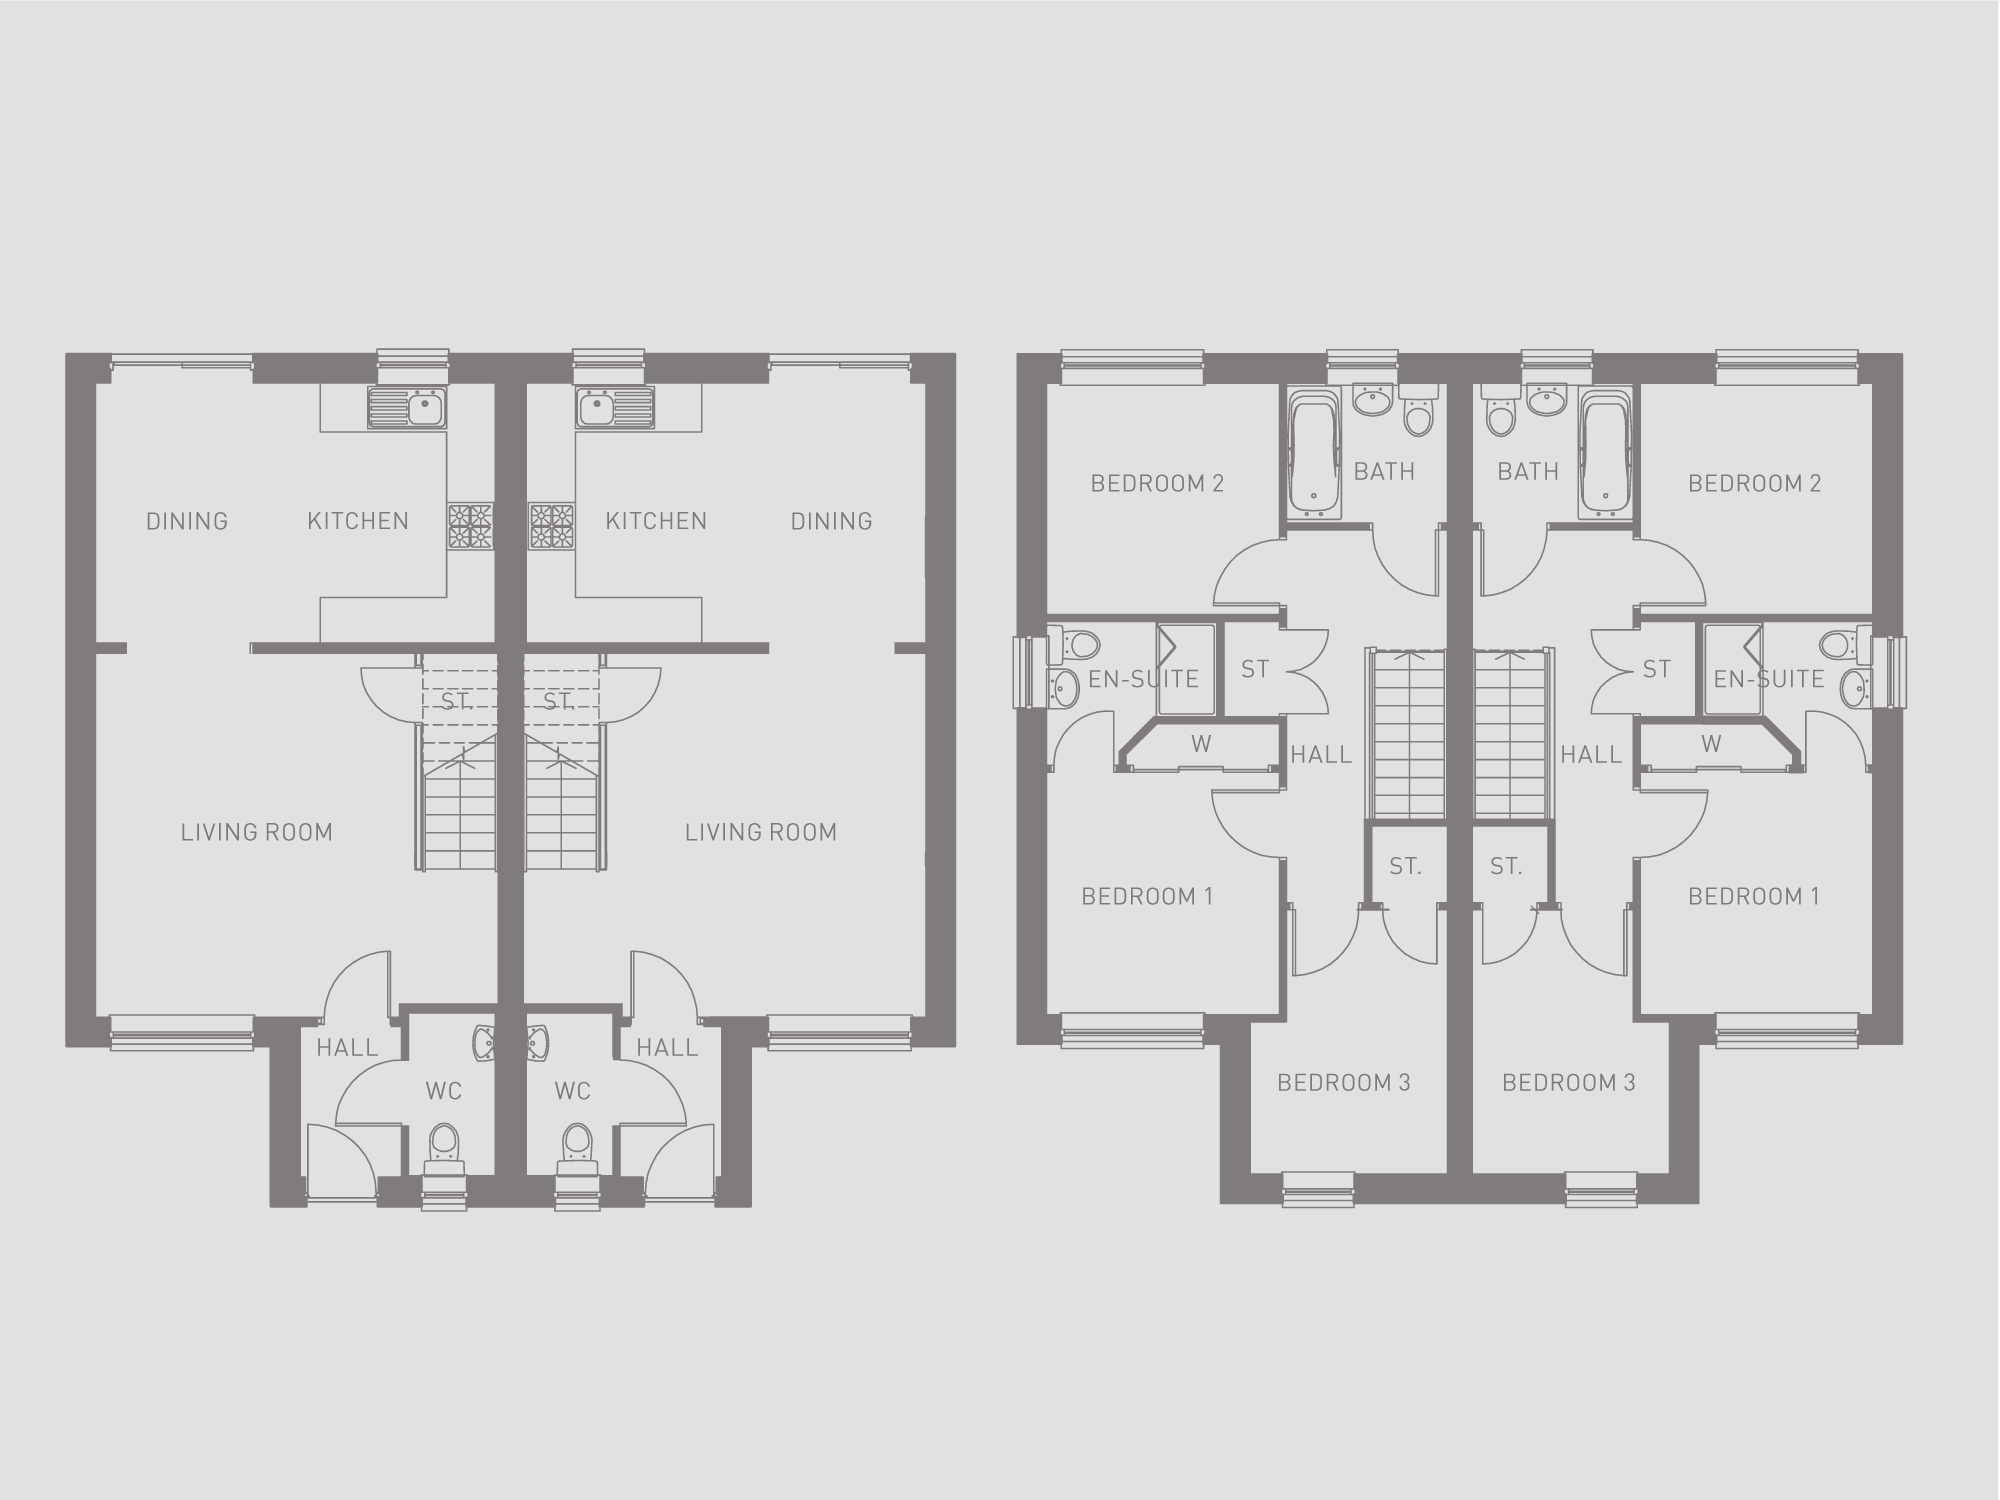room: (66, 646, 528, 1041), (501, 641, 954, 1041), (501, 353, 961, 655), (63, 355, 521, 652), (1630, 722, 1902, 1041), (1020, 356, 1296, 627), (1641, 355, 1899, 622), (1038, 737, 1276, 1004), (501, 1002, 750, 1212), (271, 1016, 523, 1212), (1454, 1015, 1698, 1205), (1220, 1019, 1466, 1201), (1444, 356, 1639, 533), (1282, 356, 1472, 531)
